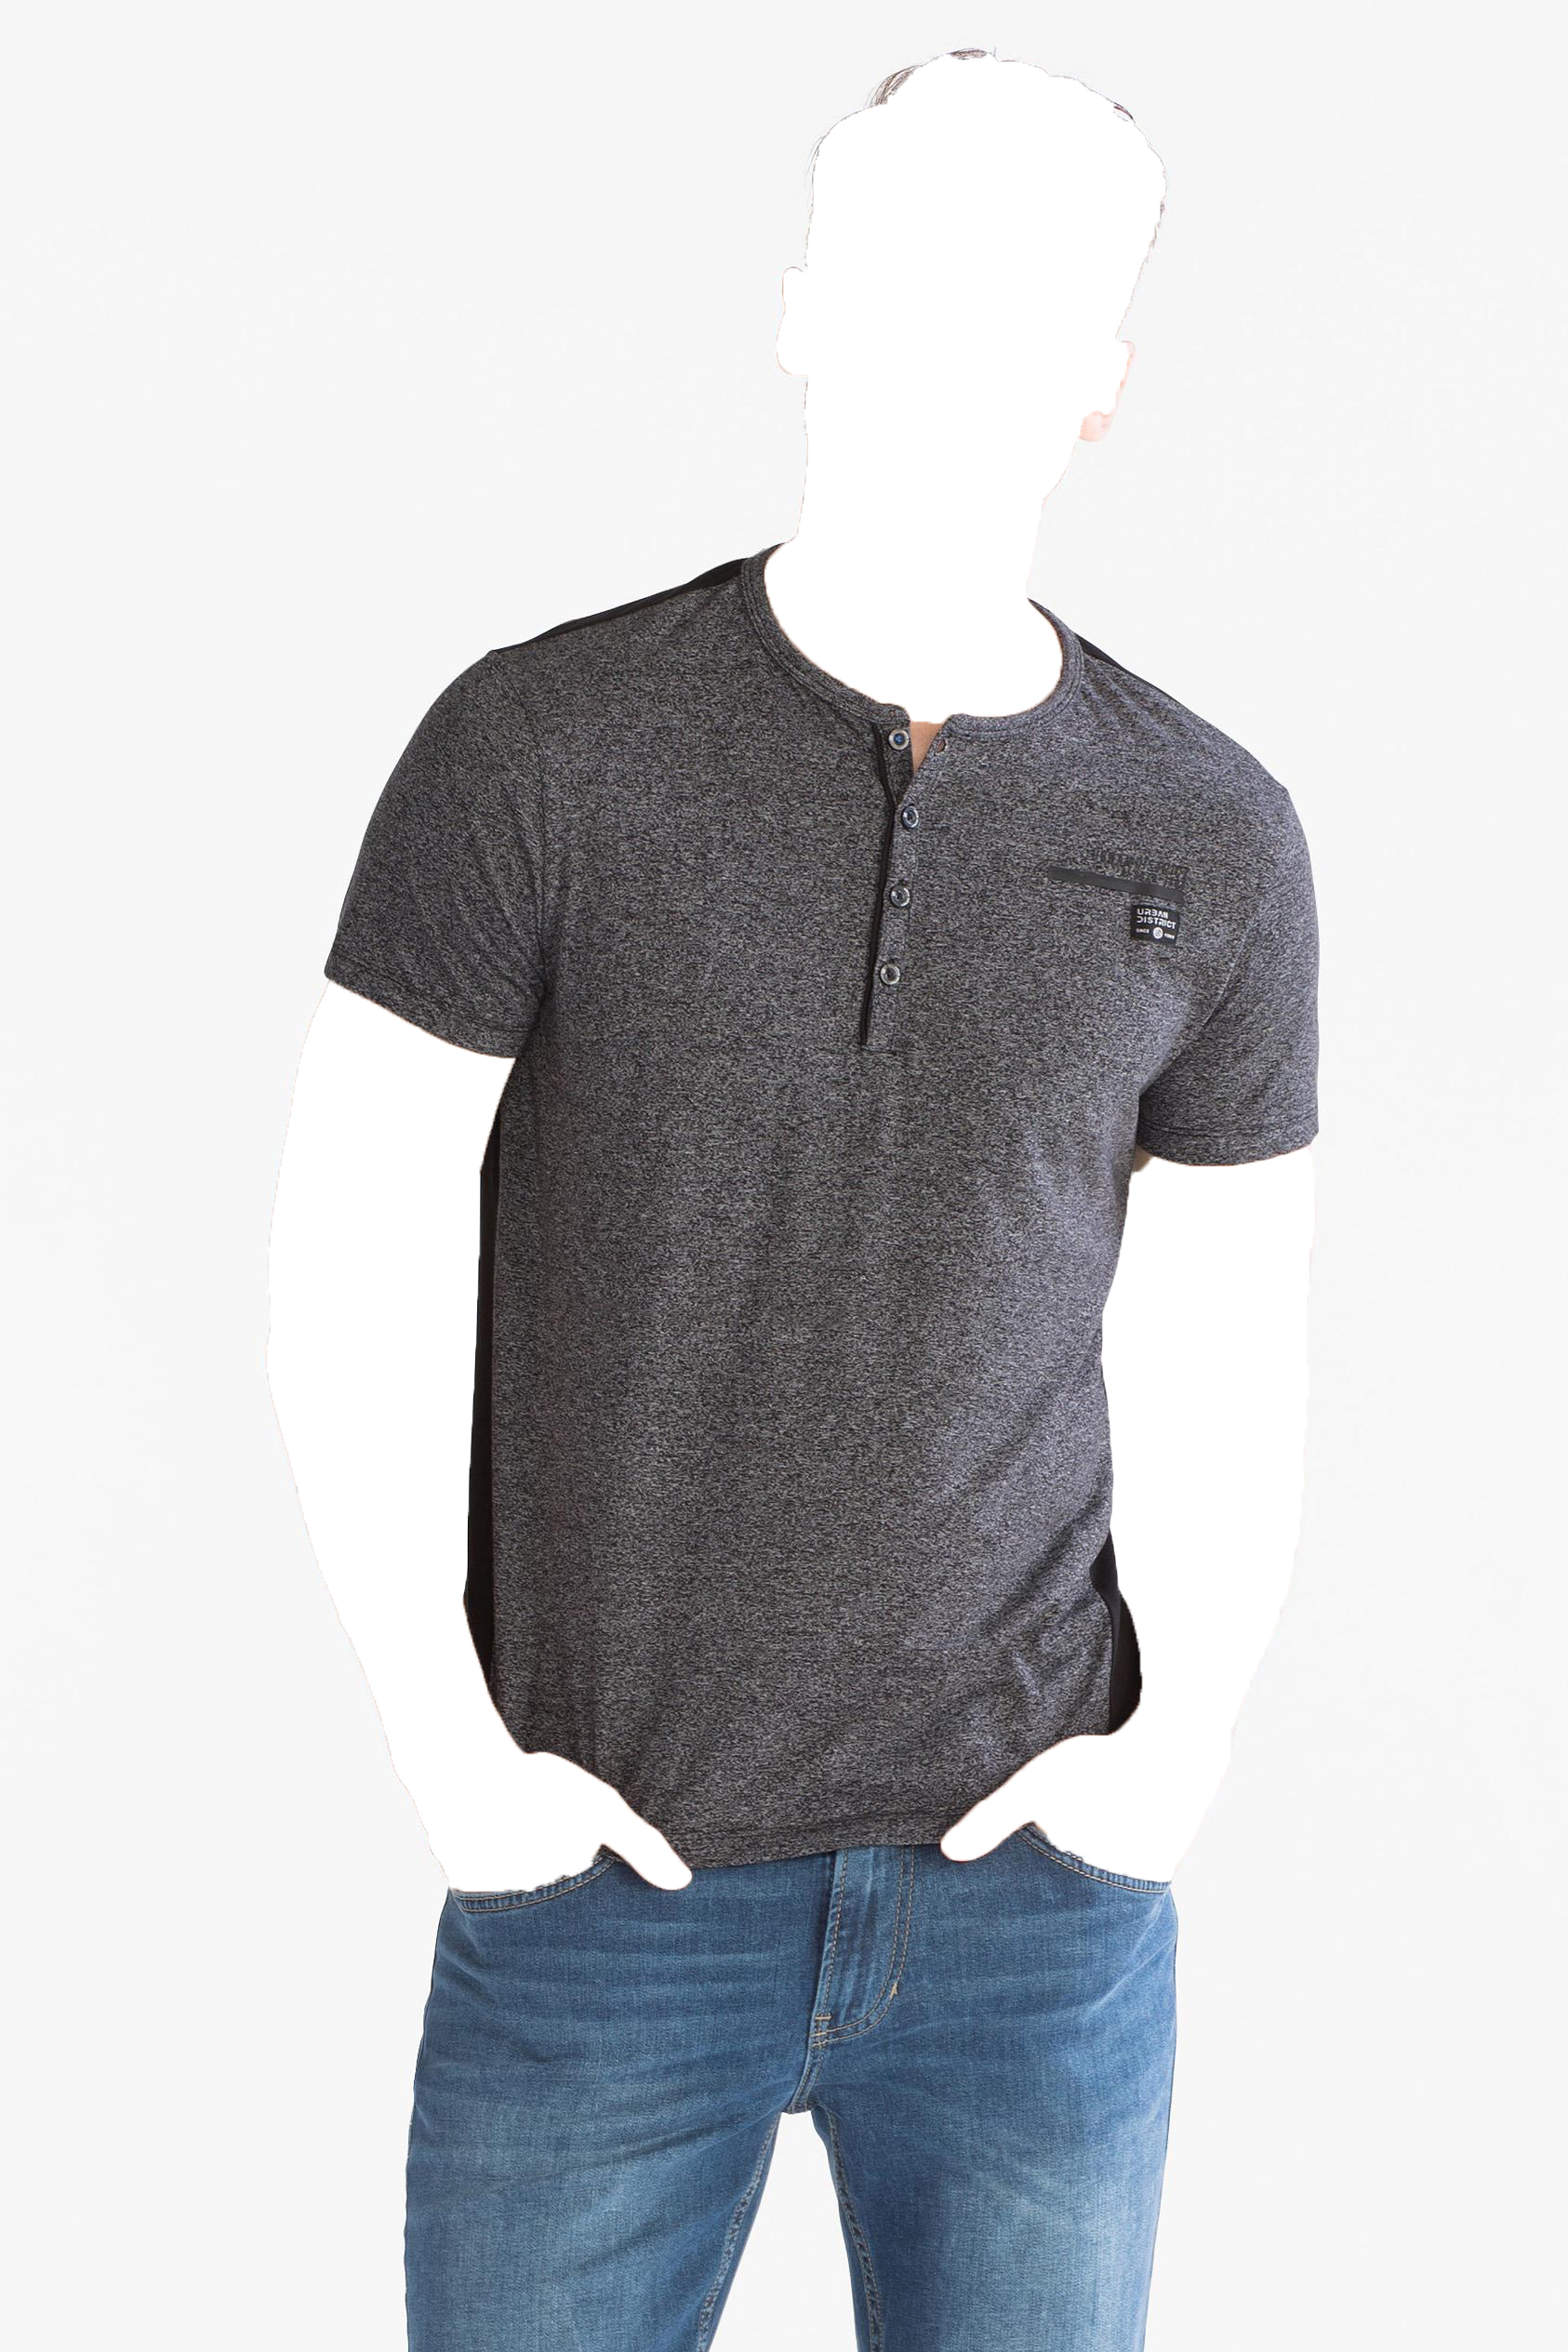teeshirt: (320, 546, 1400, 1872)
